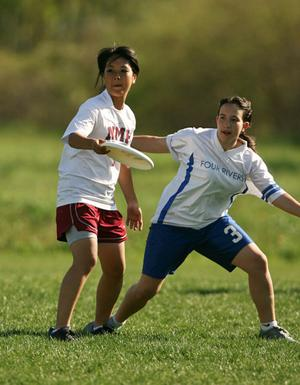person: (48, 45, 144, 343)
